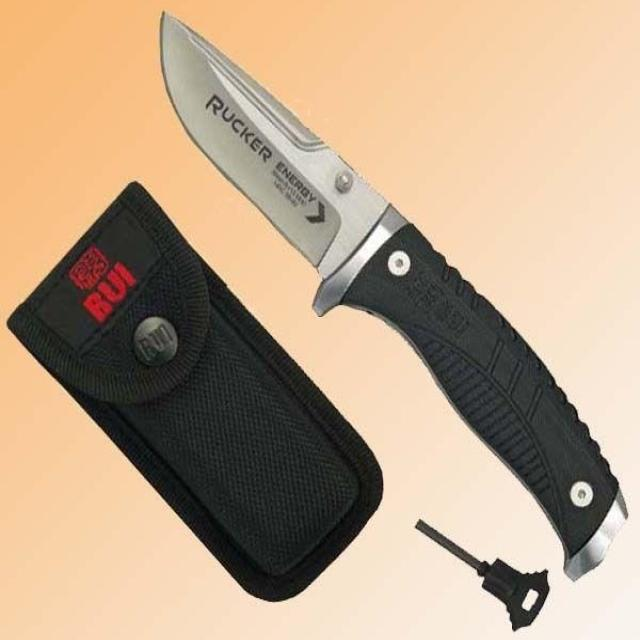knife: (150, 1, 640, 582)
